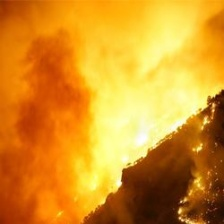fire: (88, 61, 208, 197)
smoke: (1, 24, 75, 186)
